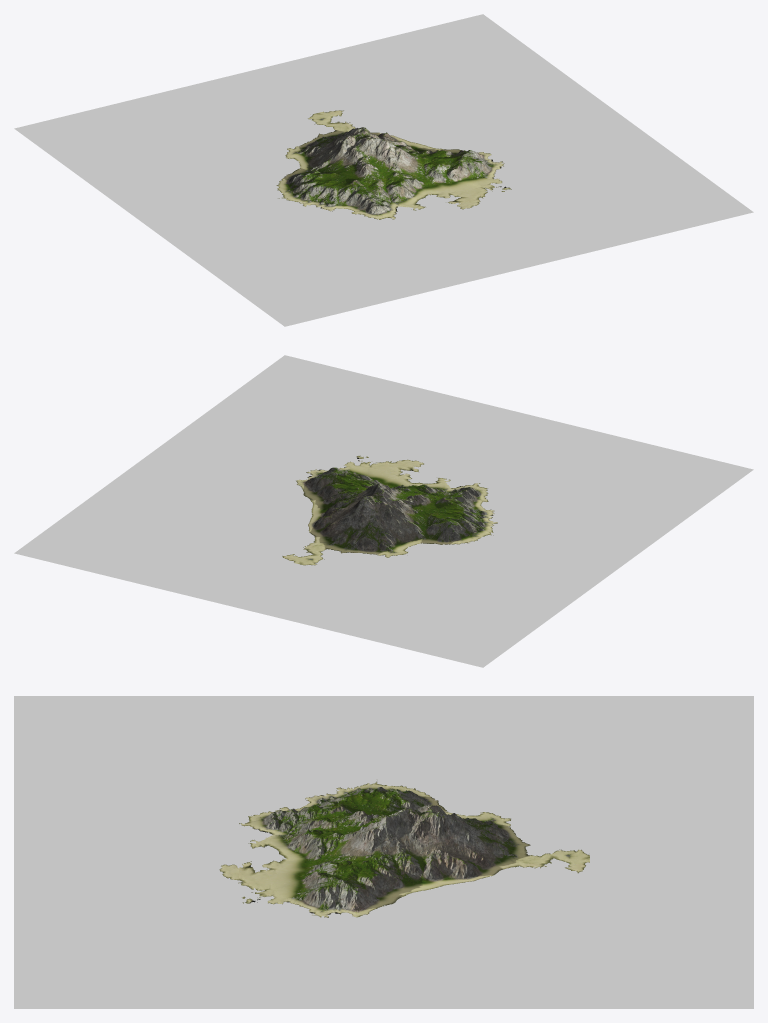
3 views of the same model, one above another, from view 1: azimuth 30°, elevation 25°; view 2: azimuth 150°, elevation 25°; view 3: azimuth 270°, elevation 25° (orthographic). The views are drawn at different scales.
Parts seen in each view (by area): view 1: island, island.001; view 2: island, island.001; view 3: island, island.001.
Part boxes in pixels (x1,y1,x2,y2): island: [14, 14, 753, 326]; island.001: [276, 110, 511, 219]; island: [14, 355, 753, 667]; island.001: [282, 455, 497, 565]; island: [14, 696, 753, 1008]; island.001: [219, 781, 589, 917].
Size of the model in its own units: 2 by 2 by 0.1207.
2 materials, 1 textured.
